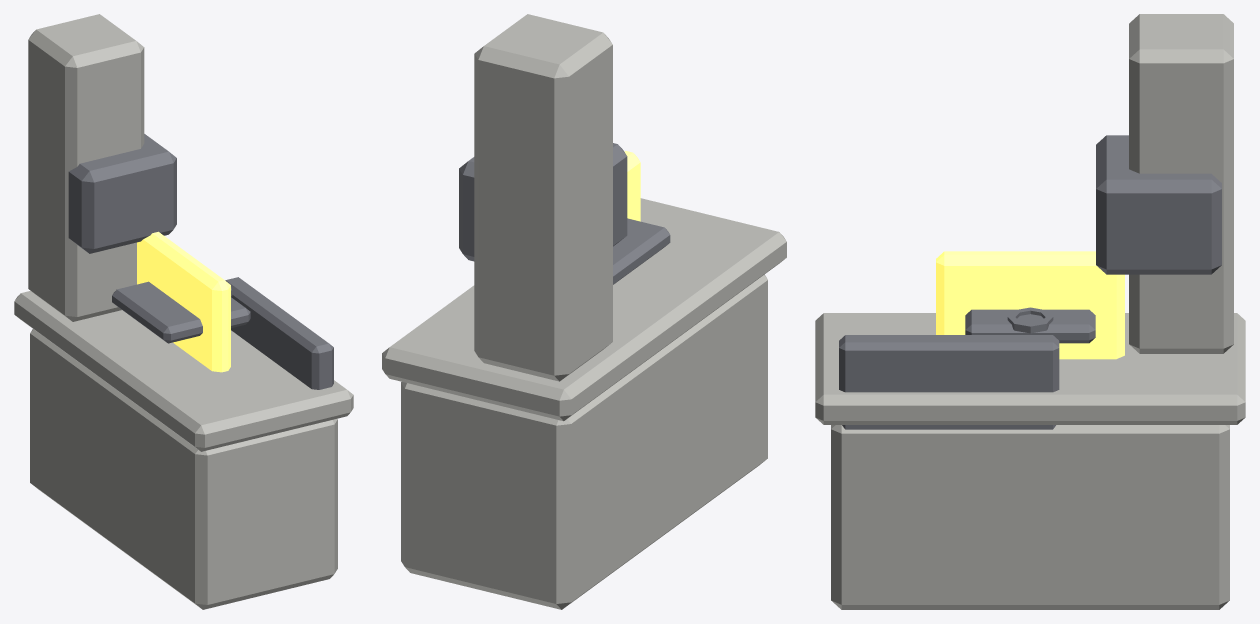
Rendered from town_range_and_oven.glb.
The picture shows the model from 3 angles, left to right: view 1: azimuth 30°, elevation 25°; view 2: azimuth 150°, elevation 25°; view 3: azimuth 270°, elevation 25°; orthographic projection. The views are drawn at different scales.
Visible parts, largest first — view 1: world; view 2: world; view 3: world.
Part boxes in pixels (x1,y1,x2,y2): world: [14, 14, 353, 609]; world: [382, 14, 786, 609]; world: [815, 14, 1245, 609].
Bounding box in the file's own units: 0.7247 × 2 × 1.49.
